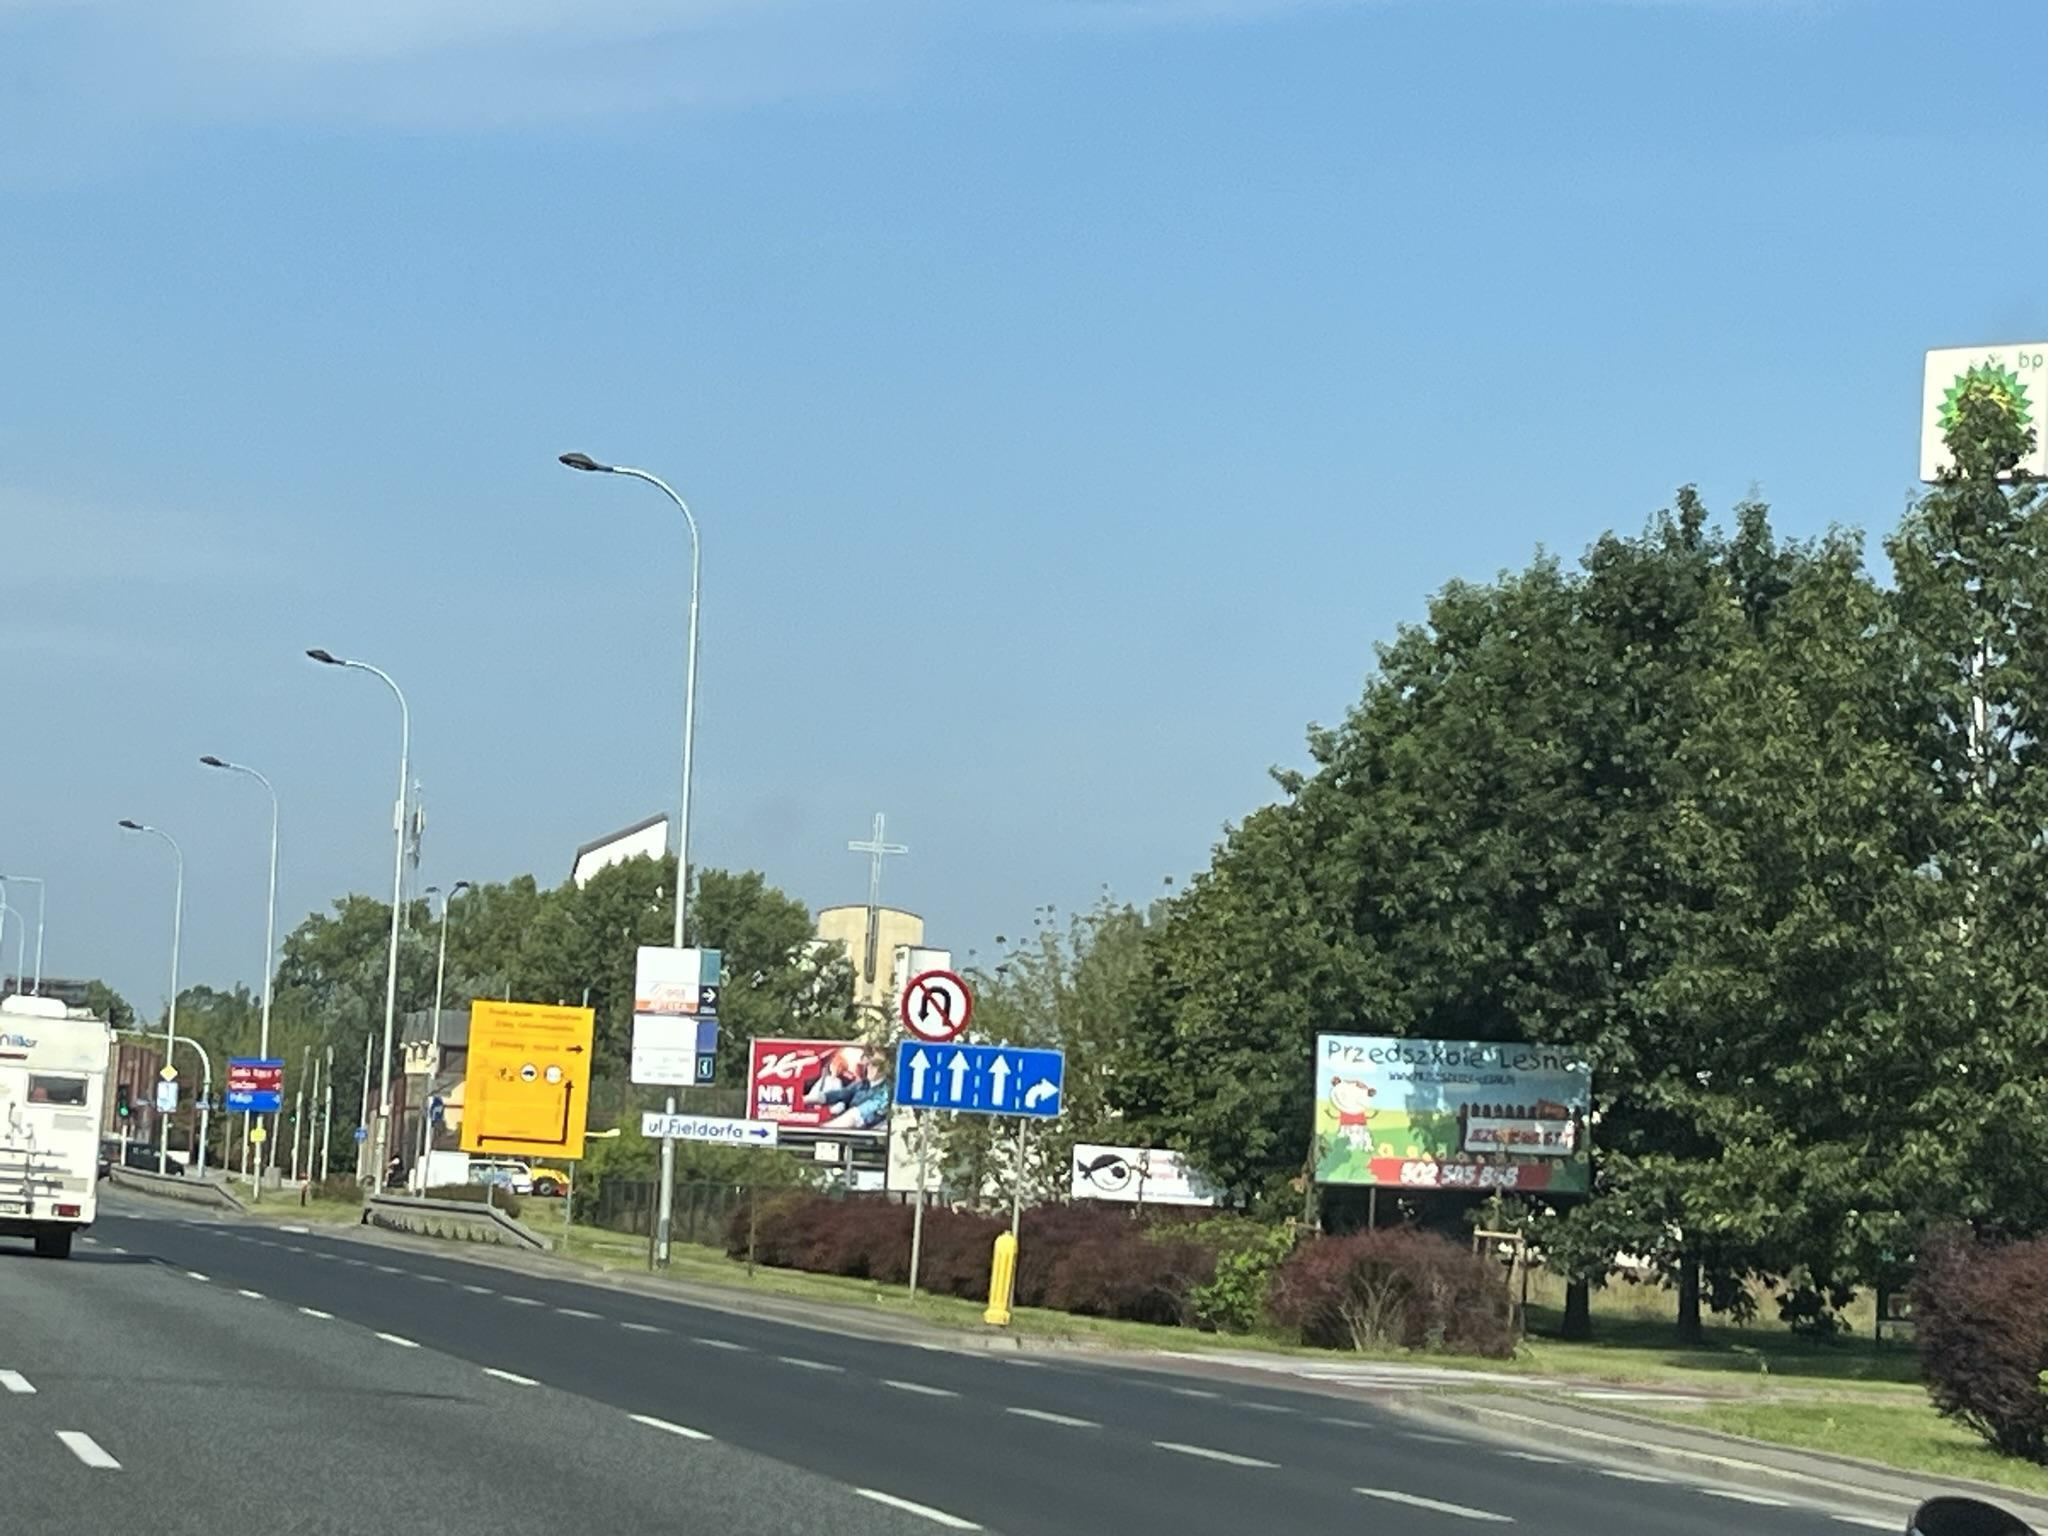direction-city: (642, 1115, 779, 1146)
information: (160, 1063, 179, 1083)
mandatory: (429, 1094, 445, 1125)
other: (460, 997, 595, 1158), (893, 1041, 1068, 1115), (156, 1083, 177, 1112)
prohibitory: (898, 970, 972, 1042)
